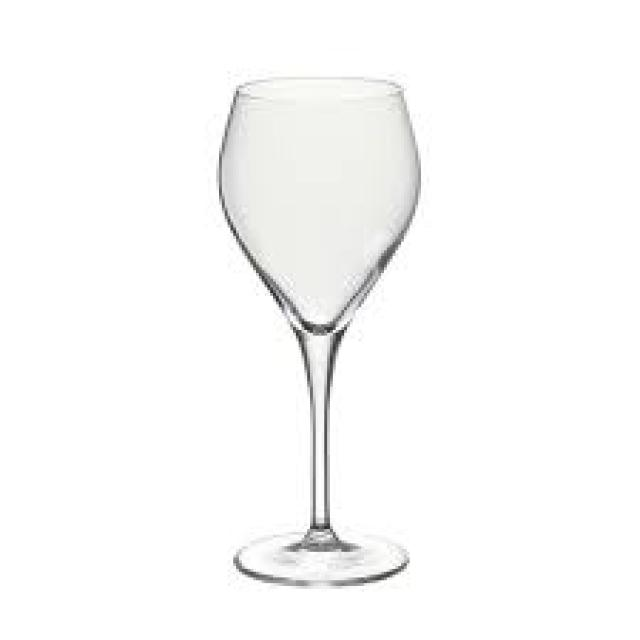glass: (219, 74, 418, 586)
